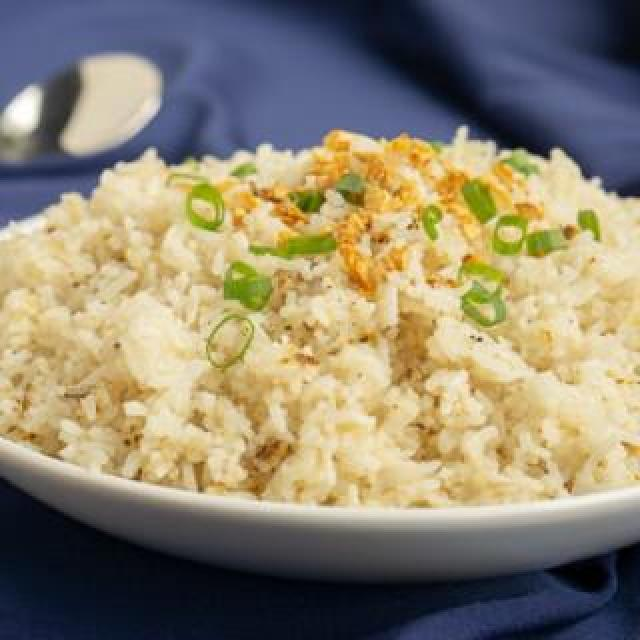Nasi Goreng: (0, 124, 638, 508)
